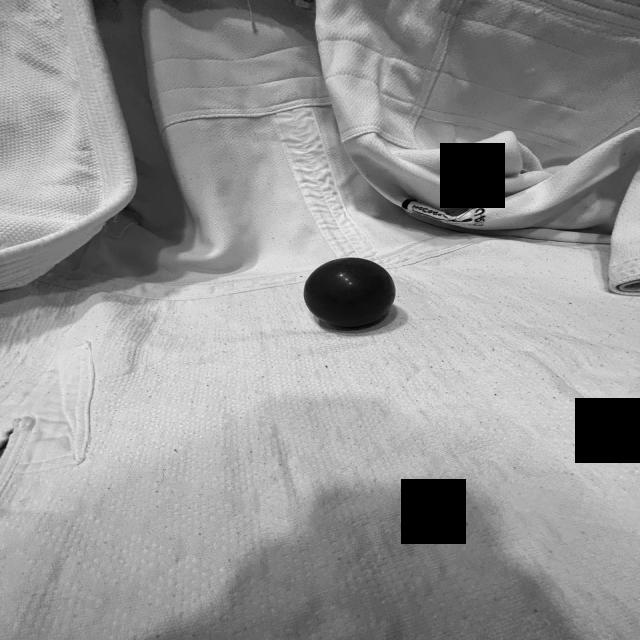ball: (302, 254, 397, 333)
